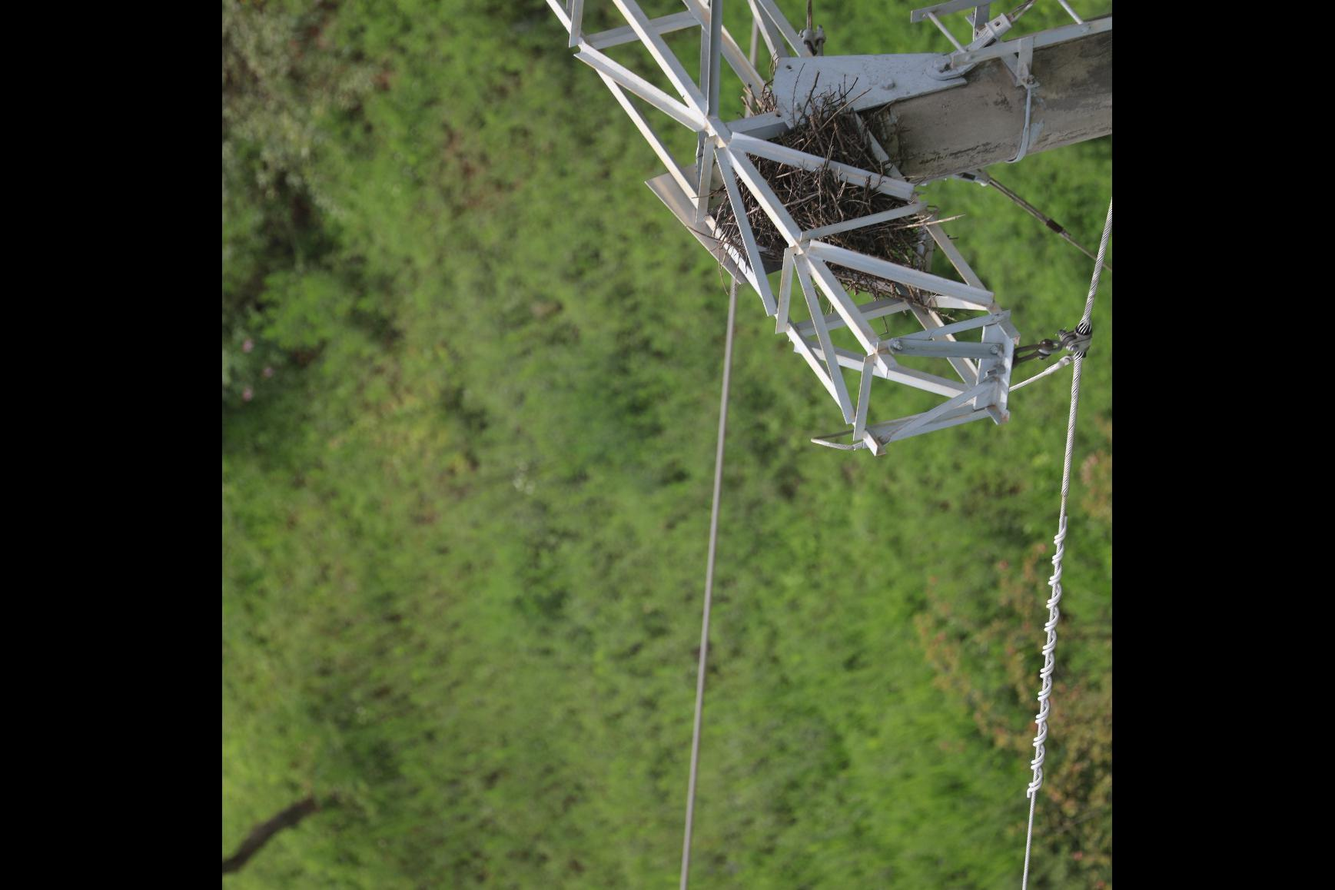nest: (708, 92, 932, 300)
